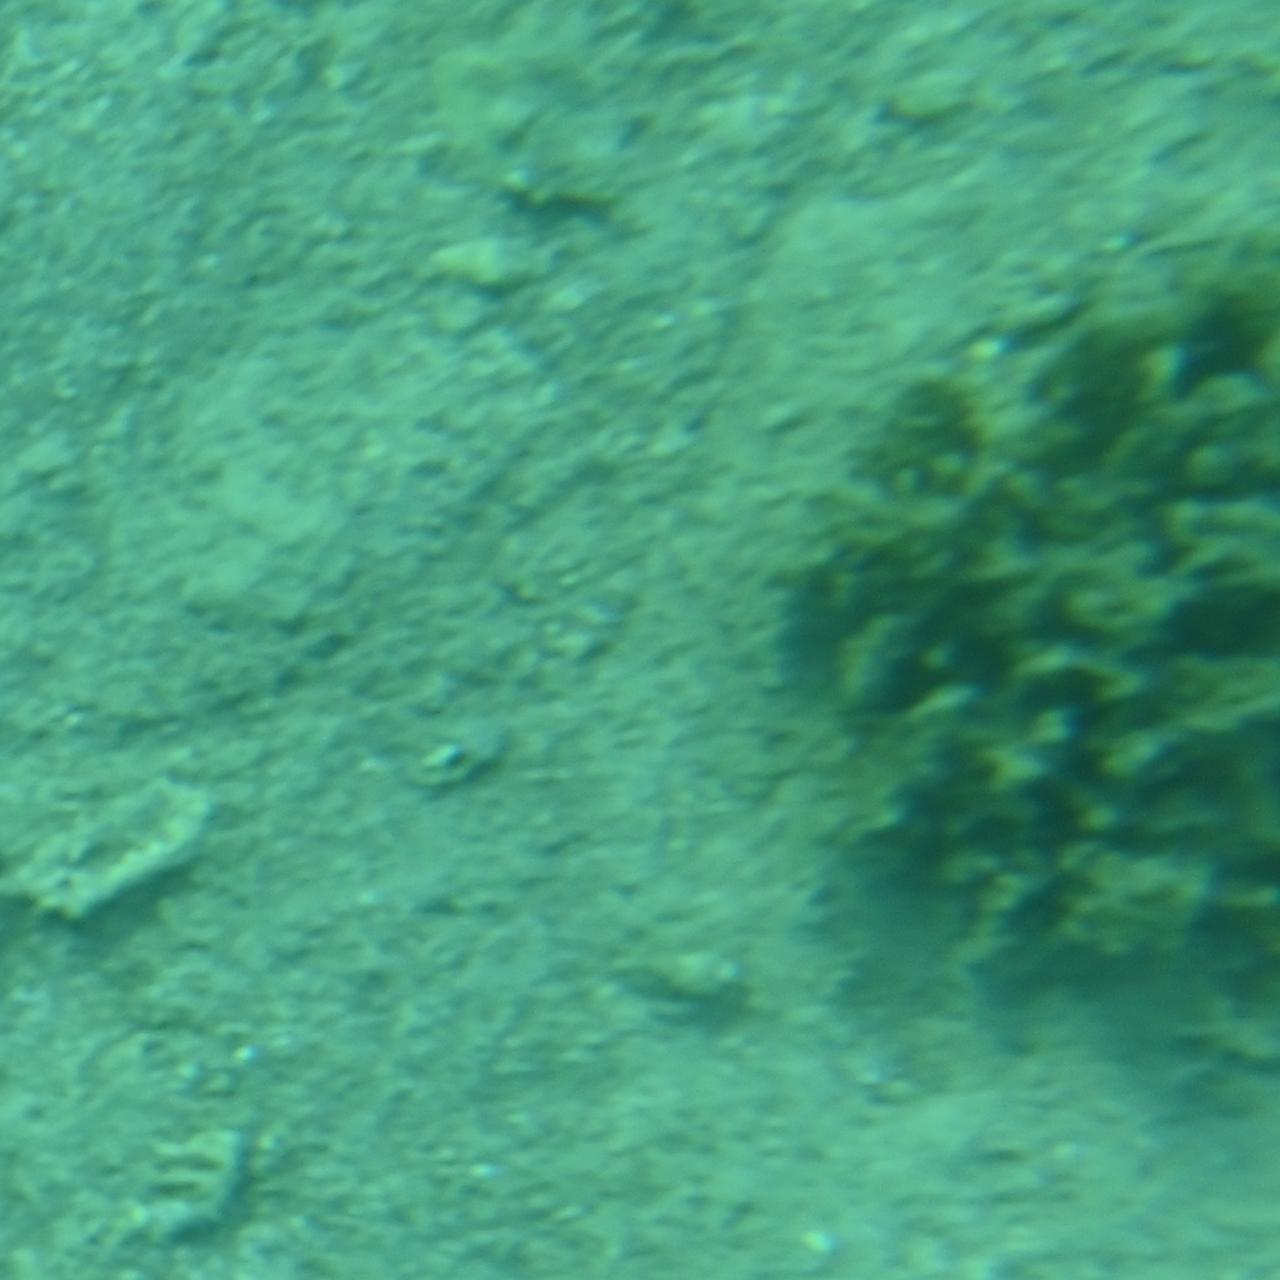Phaeophyceae -cfr Cystoseira-: (779, 218, 1279, 1062)
